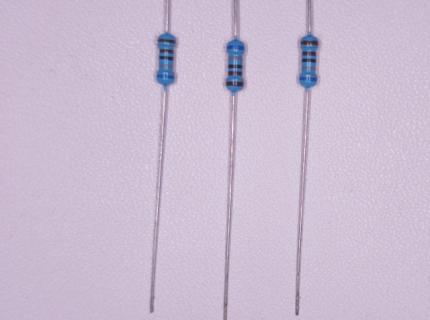Black band: (301, 58, 317, 63), (228, 64, 243, 69), (159, 56, 174, 60)
Blue band: (227, 45, 245, 50), (157, 74, 175, 79), (300, 77, 317, 82)
Brown band: (158, 38, 176, 44), (300, 40, 318, 46), (226, 81, 244, 86), (159, 49, 174, 54), (302, 51, 317, 56), (228, 71, 242, 76)
Grey band: (228, 56, 243, 61), (159, 64, 173, 68), (302, 66, 316, 70)
